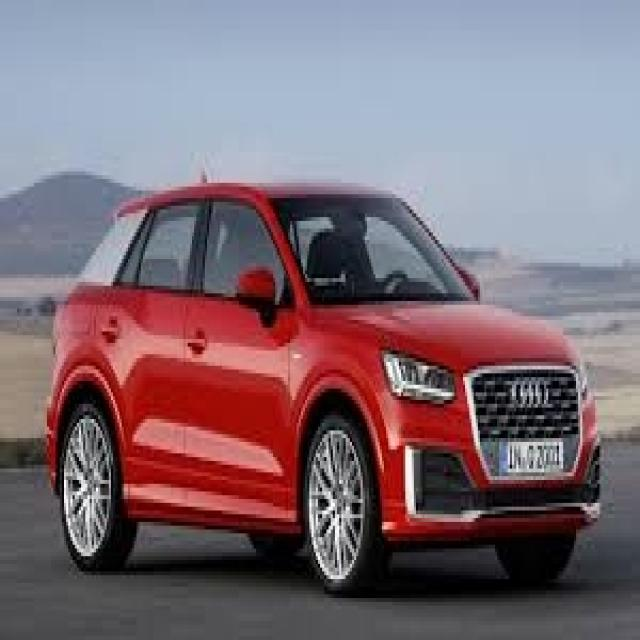red: (51, 175, 608, 539)
